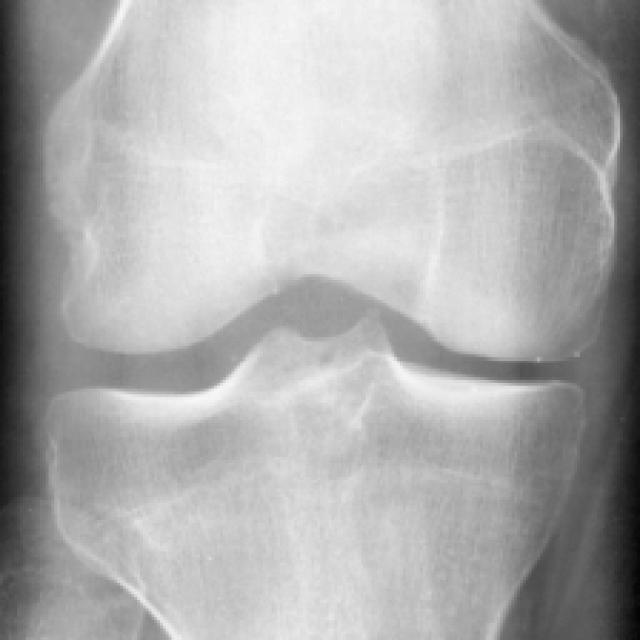femur: (49, 0, 619, 360)
tibia: (47, 317, 587, 640)
